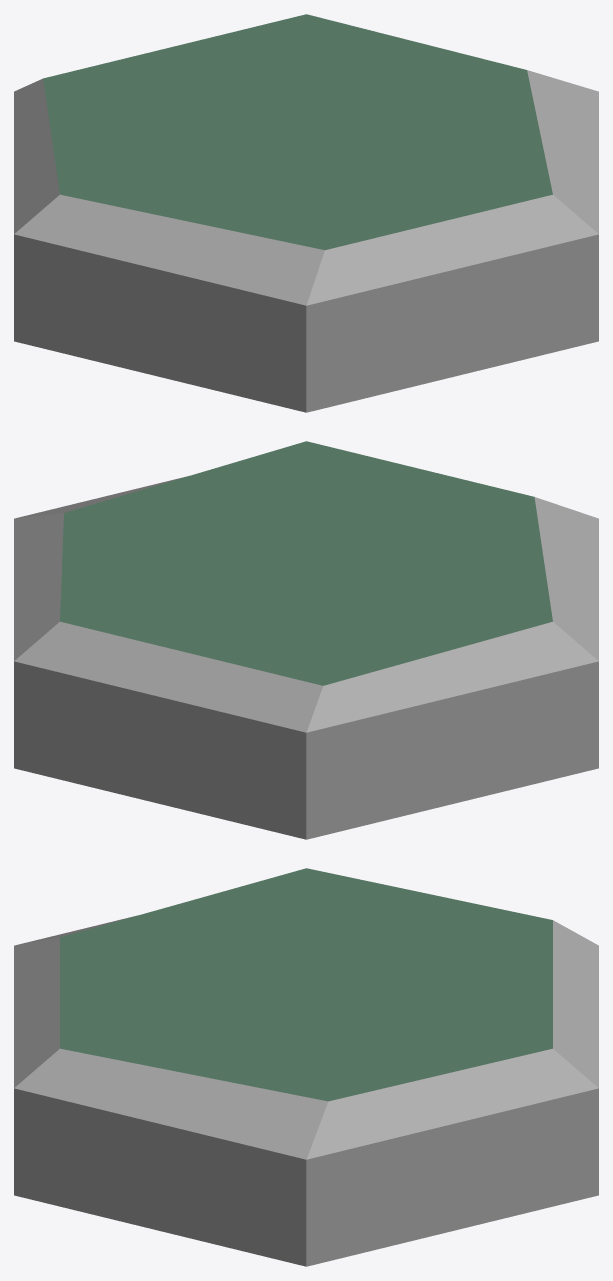
File: Hex01.fbx
3 renders of one model, top to bottom at view 1: azimuth 30°, elevation 25°; view 2: azimuth 150°, elevation 25°; view 3: azimuth 270°, elevation 25°, orthographic.
Parts seen in each view (by area): view 1: Hex01; view 2: Hex01; view 3: Hex01.
Boxes of the visible parts, <box> form: Hex01: <box>14,14,598,412</box>; Hex01: <box>14,441,598,839</box>; Hex01: <box>14,868,598,1266</box>.
Bounding box in the file's own units: 1.67 × 0.3694 × 1.44.
